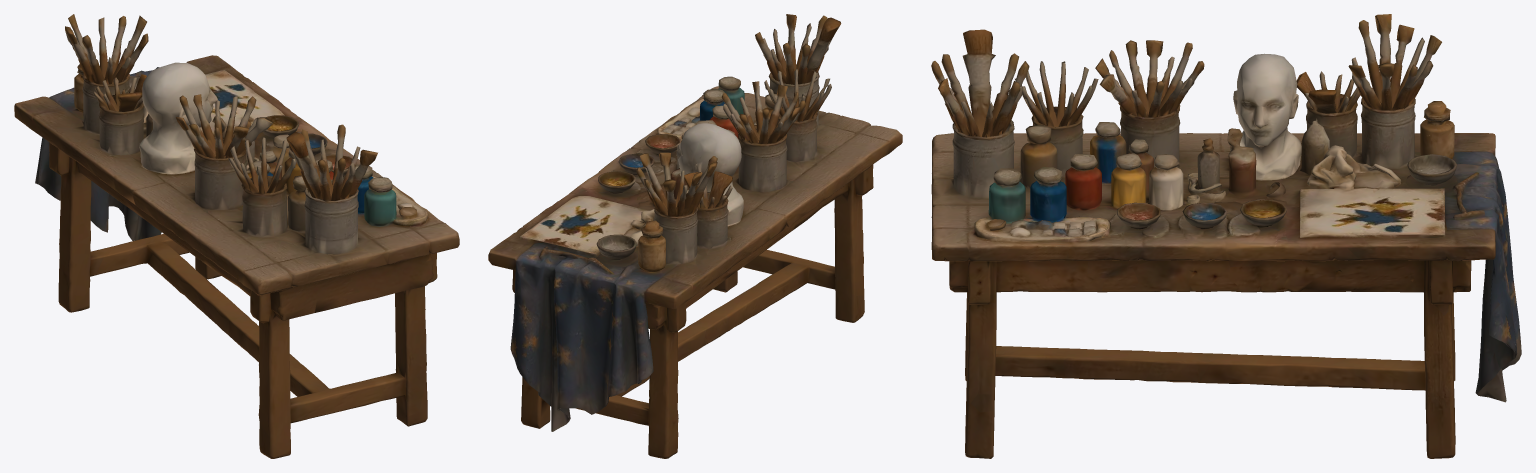
Rendered from m_bench.glb.
3 renders of one model, left to right at view 1: azimuth 30°, elevation 25°; view 2: azimuth 150°, elevation 25°; view 3: azimuth 270°, elevation 25°, orthographic. The views are drawn at different scales.
Parts seen in each view (by area): view 1: tripo_node_1413865a-a3ab-4dc8-9e3f-9ad0e79b87e6; view 2: tripo_node_1413865a-a3ab-4dc8-9e3f-9ad0e79b87e6; view 3: tripo_node_1413865a-a3ab-4dc8-9e3f-9ad0e79b87e6.
Boxes of the visible parts, box(x1,y1,x2,y2) form: tripo_node_1413865a-a3ab-4dc8-9e3f-9ad0e79b87e6: box(14, 14, 459, 458); tripo_node_1413865a-a3ab-4dc8-9e3f-9ad0e79b87e6: box(488, 14, 902, 458); tripo_node_1413865a-a3ab-4dc8-9e3f-9ad0e79b87e6: box(931, 14, 1521, 458).
Size of the model in its own units: 0.4545 by 0.6757 by 1.
Materials: 1 (1 with a texture image).
